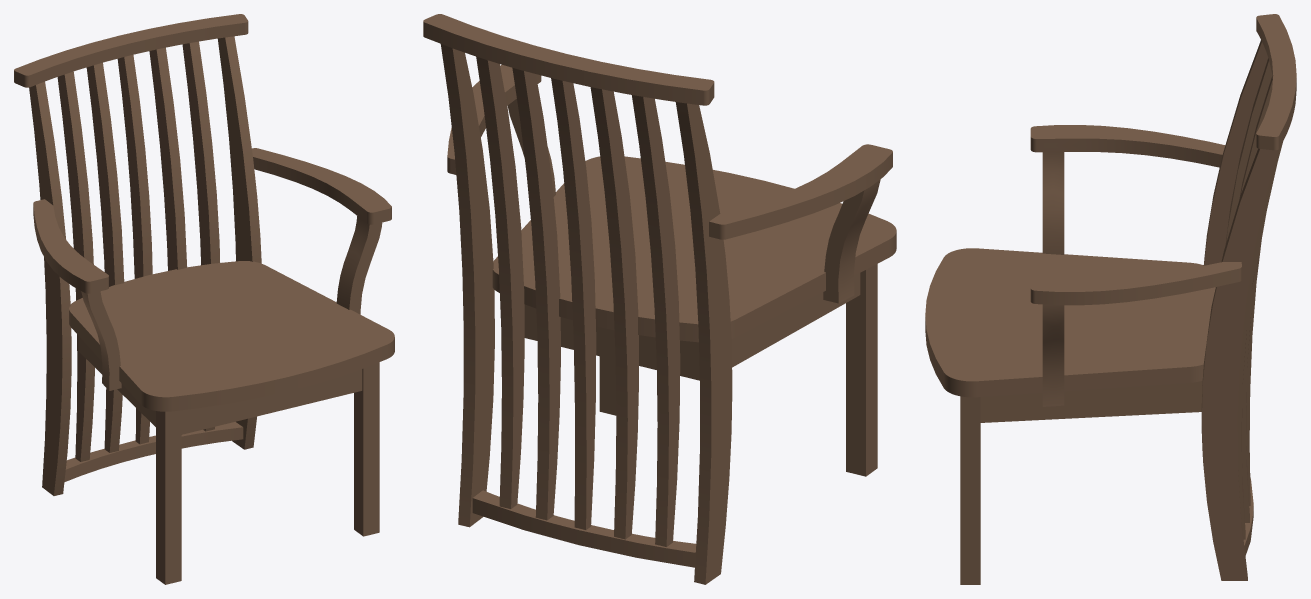
Rendered from 531_ダイニングチェア.glb.
The picture shows the model from 3 angles, left to right: view 1: azimuth 30°, elevation 25°; view 2: azimuth 150°, elevation 25°; view 3: azimuth 270°, elevation 25°; orthographic projection. The views are drawn at different scales.
Visible parts, largest first — view 1: Body; view 2: Body; view 3: Body.
Part boxes in pixels (<box>): Body: <box>14,14,394,584</box>; Body: <box>423,14,896,584</box>; Body: <box>925,14,1296,584</box>.
Size of the model in its own units: 0.6744 by 0.85 by 0.633.
